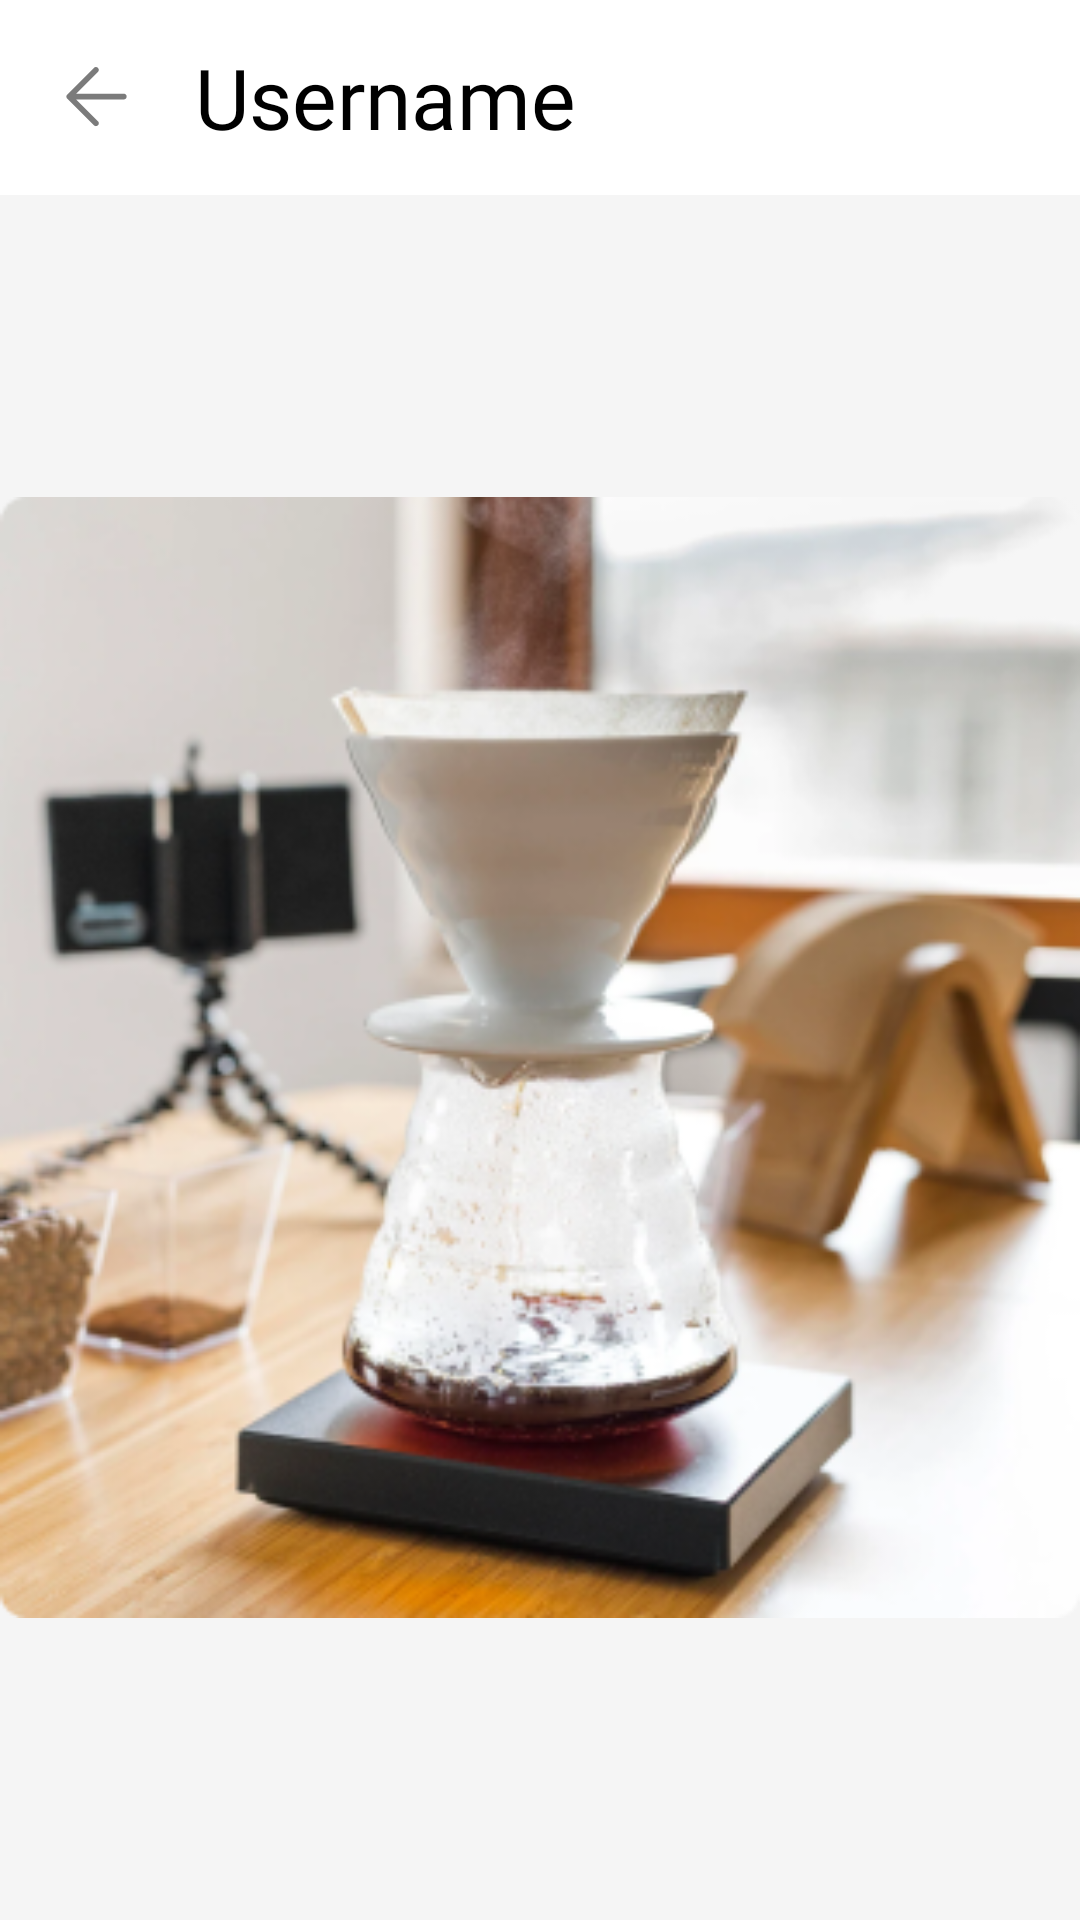

Where to tap for icons on this 1080x1920 app screen, as (x=x, y=y):
back: (x=96, y=96)
